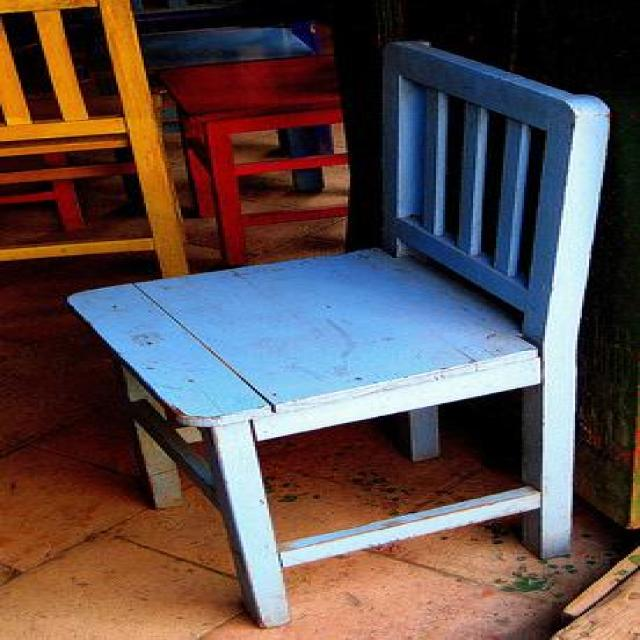chair: (59, 43, 610, 628)
